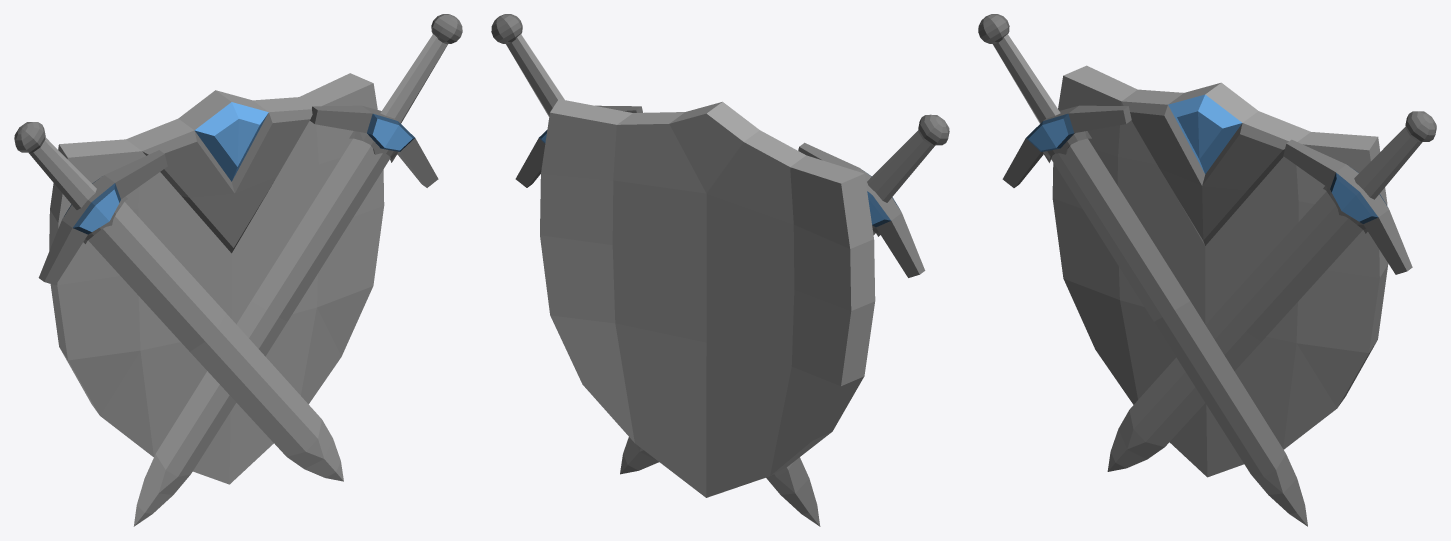
The model's file is Comb_5.fbx.
3 views of the same model, side by side, from view 1: azimuth 30°, elevation 25°; view 2: azimuth 150°, elevation 25°; view 3: azimuth 330°, elevation 25° (orthographic).
Parts seen in each view (by area): view 1: Shield 1.001, Sword 1.003; view 2: Shield 1.001, Sword 1.003; view 3: Shield 1.001, Sword 1.003.
Boxes of the visible parts, x1,y1,x2,y2 form: Shield 1.001: (49,73,384,484); Sword 1.003: (14,14,462,526); Shield 1.001: (540,99,875,497); Sword 1.003: (491,14,949,526); Shield 1.001: (1052,65,1388,477); Sword 1.003: (978,14,1436,526).
Size of the model in its own units: 80.09 by 74.28 by 12.45.
